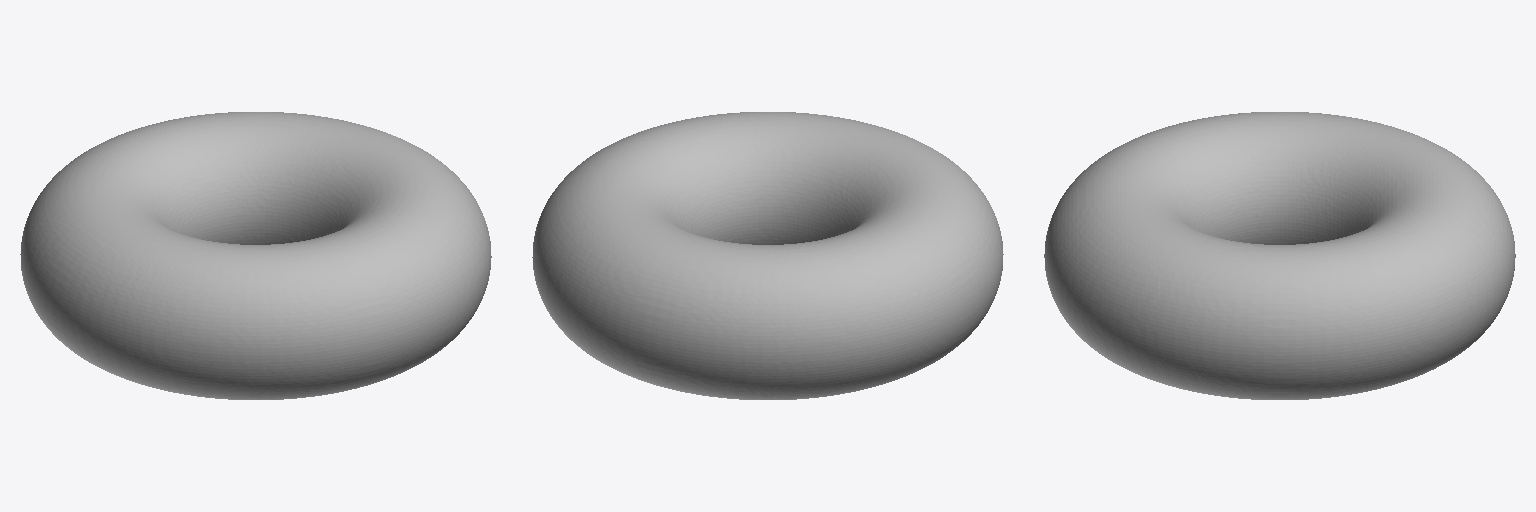
The robot description file, URDF, robot "root":
<robot name="root">
  <link name="link_001">
    <visual>
      <origin xyz="0 0 0" rpy="0 0 0"/>
      <geometry>
        <mesh filename="torusmedium.obj" scale="1.0000E+00 1.0000E+00 1.0000E+00"/>
      </geometry>
      <material name="">
        <color rgba="7.50E-01 7.50E-01 7.50E-01 1"/>
      </material>
    </visual>
    <collision>
      <origin xyz="0 0 0" rpy="0 0 0"/>
      <geometry>
        <mesh filename="torusmedium.obj" scale="1.0000E+00 1.0000E+00 1.0000E+00"/>
      </geometry>
    </collision>
    <inertial>
      <mass value="0.16"/> <!-- 质量：0.1kg -->
    </inertial>
  </link>
</robot>

--- What the picture shows (computed from the rendered views, not written in the file) ---
The picture shows the robot from 3 angles, left to right: view 1: azimuth 30°, elevation 25°; view 2: azimuth 150°, elevation 25°; view 3: azimuth 270°, elevation 25°; orthographic projection.
Robot: root — 1 links, 0 joints (none); root link link_001; default pose: every joint at zero.
Links seen in each view (by area): view 1: link_001; view 2: link_001; view 3: link_001.
Link boxes in pixels (x1,y1,x2,y2): link_001: (20, 112, 491, 399); link_001: (532, 112, 1003, 399); link_001: (1044, 112, 1515, 399).
Size in the robot's own frame: 0.0802 by 0.0801 by 0.0265 metres.
1 mesh visuals loaded from 1 distinct referenced files (1 OBJ).
